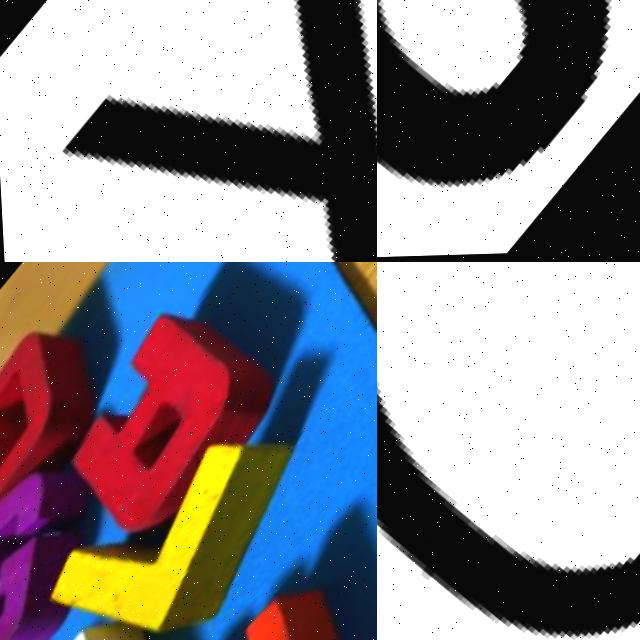8: (377, 0, 640, 258)
C: (377, 392, 640, 640)
G: (0, 440, 138, 640)
L: (7, 380, 325, 640)
O: (0, 316, 116, 525)
W: (45, 540, 377, 640)
X: (0, 0, 377, 262)
